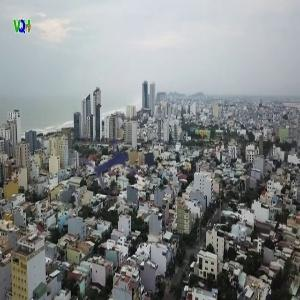drone: (81, 123, 156, 198)
